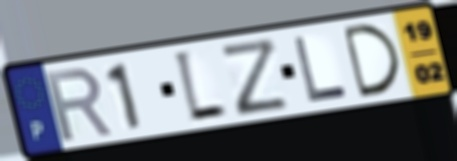1: (104, 60, 144, 132)
D: (339, 21, 404, 100)
L: (170, 48, 231, 127), (290, 34, 351, 105)
R: (42, 65, 116, 144)
Z: (217, 35, 292, 119)
